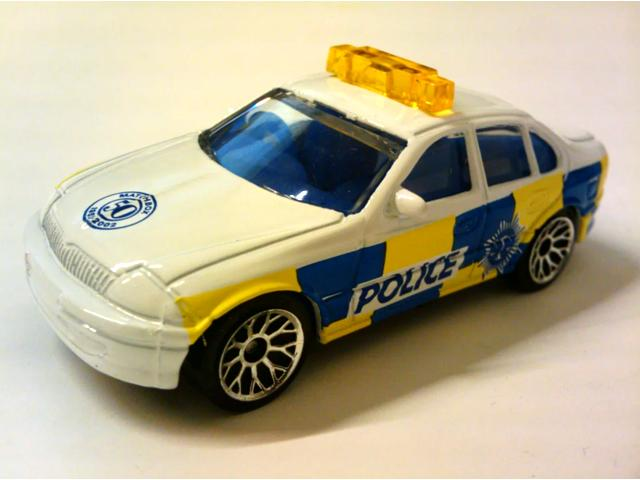toy-car: (24, 42, 610, 415)
